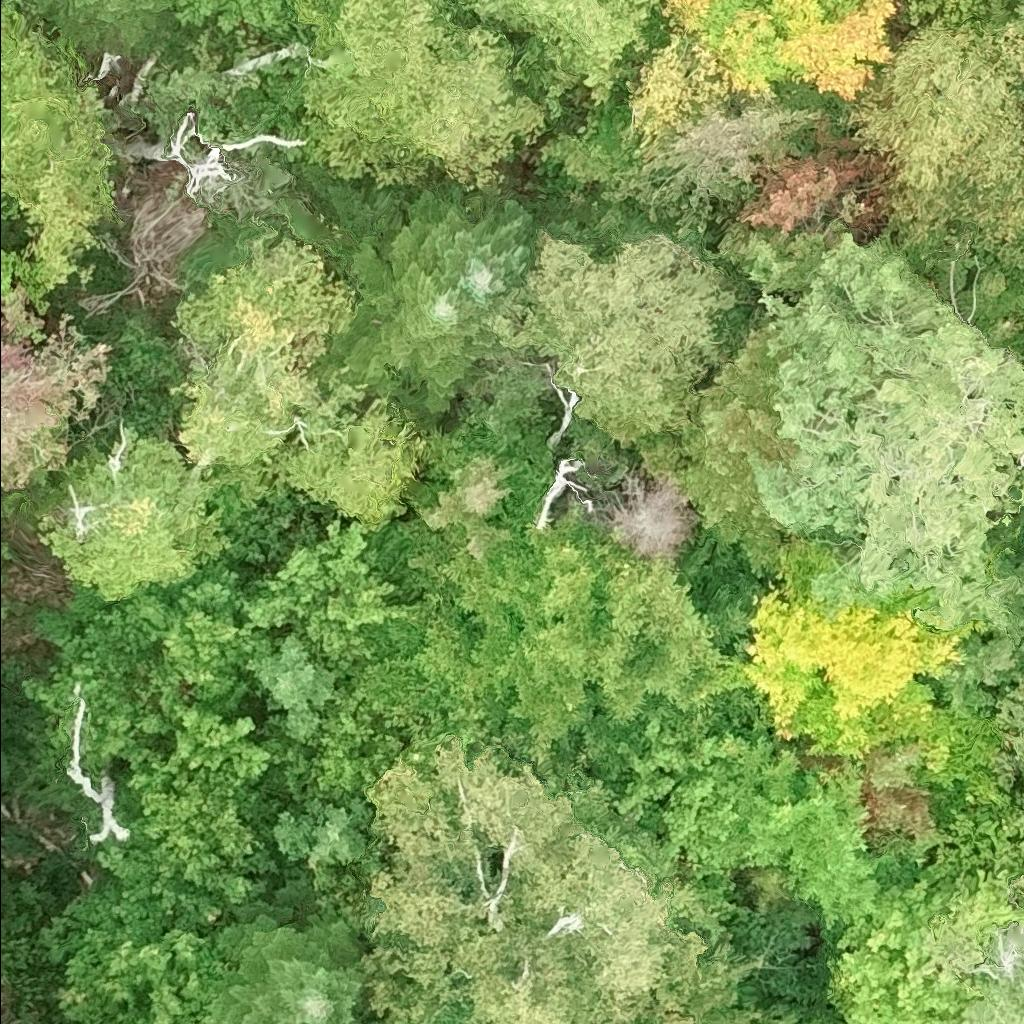crown: (744, 227, 1023, 631), (356, 502, 737, 752), (362, 734, 679, 1023), (483, 220, 748, 461), (289, 0, 549, 195), (843, 13, 1023, 292), (167, 230, 352, 478), (725, 585, 982, 762), (638, 323, 796, 578), (318, 215, 508, 414), (0, 8, 127, 289), (35, 427, 235, 604), (597, 96, 827, 240), (95, 758, 283, 927), (728, 733, 890, 928), (100, 557, 274, 719), (34, 872, 216, 1023), (260, 362, 429, 524), (201, 872, 381, 1023), (661, 0, 903, 105), (446, 0, 663, 117), (20, 607, 170, 770), (0, 291, 117, 494), (734, 113, 891, 254), (609, 717, 744, 878), (834, 877, 974, 1023), (409, 416, 552, 556), (231, 517, 388, 640), (620, 23, 747, 166), (403, 186, 538, 316), (274, 683, 405, 802), (163, 109, 307, 208), (300, 573, 415, 690), (160, 684, 272, 783), (592, 471, 701, 567), (30, 0, 196, 59), (541, 95, 639, 187), (966, 916, 1023, 1023), (173, 0, 296, 35), (0, 242, 52, 318), (995, 675, 1023, 782), (821, 0, 858, 20), (0, 744, 15, 792), (1012, 1, 1023, 29), (628, 1012, 655, 1023), (1011, 877, 1023, 901), (0, 705, 7, 731), (1016, 0, 1023, 2)
